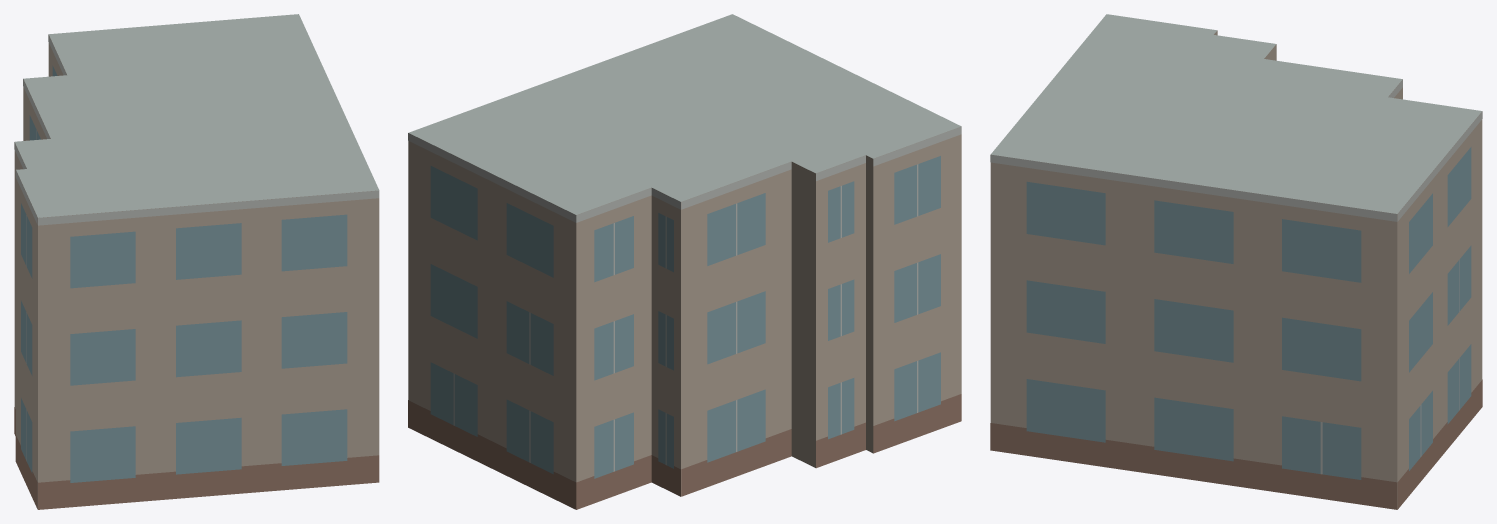
The model's file is survey-upis-32825680.glb.
3 views of the same model, side by side, from view 1: azimuth 30°, elevation 25°; view 2: azimuth 150°, elevation 25°; view 3: azimuth 270°, elevation 25° (orthographic).
Visible parts, largest first — view 1: survey-upis-32825680.tmp; view 2: survey-upis-32825680.tmp; view 3: survey-upis-32825680.tmp.
Part boxes in pixels (x1,y1,x2,y2): survey-upis-32825680.tmp: (14, 14, 379, 509); survey-upis-32825680.tmp: (408, 14, 961, 509); survey-upis-32825680.tmp: (990, 14, 1482, 509).
Size of the model in its own units: 13.28 by 9.15 by 13.8.
